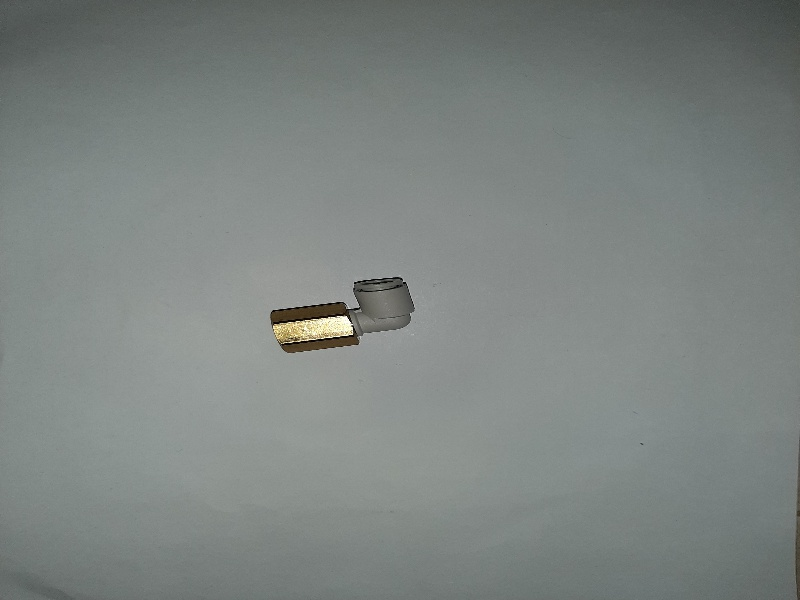Connector: (266, 258, 417, 358)
